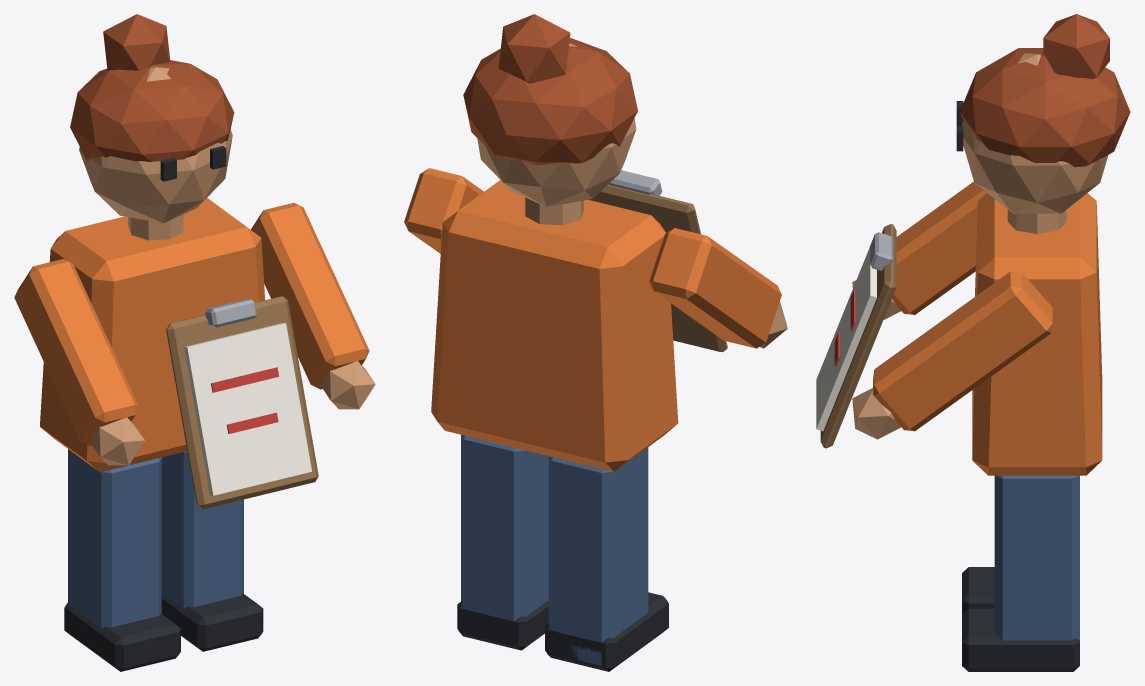
The model's file is requester.glb.
The picture shows the model from 3 angles, left to right: view 1: azimuth 30°, elevation 25°; view 2: azimuth 150°, elevation 25°; view 3: azimuth 270°, elevation 25°; orthographic projection. The views are drawn at different scales.
Visible parts, largest first — view 1: Body, Props, LegR, LegL, ArmR, ArmL; view 2: Body, LegR, LegL, ArmR, Props, ArmL; view 3: Body, LegL, ArmL, Props, ArmR, LegR.
Boxes of the visible parts, x1=… form: Body: x1=40, y1=14, x2=264, y2=472; Props: x1=166, y1=296, x2=318, y2=509; LegR: x1=64, y1=449, x2=180, y2=671; LegL: x1=161, y1=451, x2=263, y2=651; ArmR: x1=14, y1=259, x2=144, y2=465; ArmL: x1=251, y1=202, x2=375, y2=409; Body: x1=431, y1=14, x2=678, y2=471; LegR: x1=545, y1=447, x2=668, y2=671; LegL: x1=457, y1=435, x2=548, y2=650; ArmR: x1=649, y1=228, x2=787, y2=348; Props: x1=588, y1=170, x2=727, y2=352; ArmL: x1=404, y1=168, x2=483, y2=253; Body: x1=956, y1=14, x2=1130, y2=475; LegL: x1=962, y1=475, x2=1079, y2=671; ArmL: x1=852, y1=271, x2=1052, y2=439; Props: x1=816, y1=224, x2=896, y2=448; ArmR: x1=852, y1=181, x2=986, y2=319; LegR: x1=962, y1=567, x2=994, y2=613.
Bounding box in the file's own units: 0.5005 × 1.05 × 0.4795.
